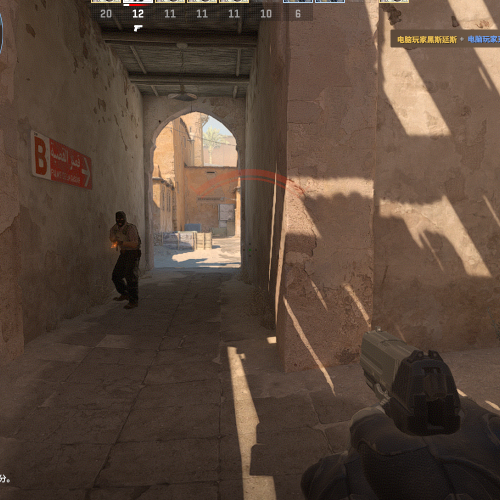t_body: (110, 211, 142, 310)
t_head: (115, 211, 127, 228)
